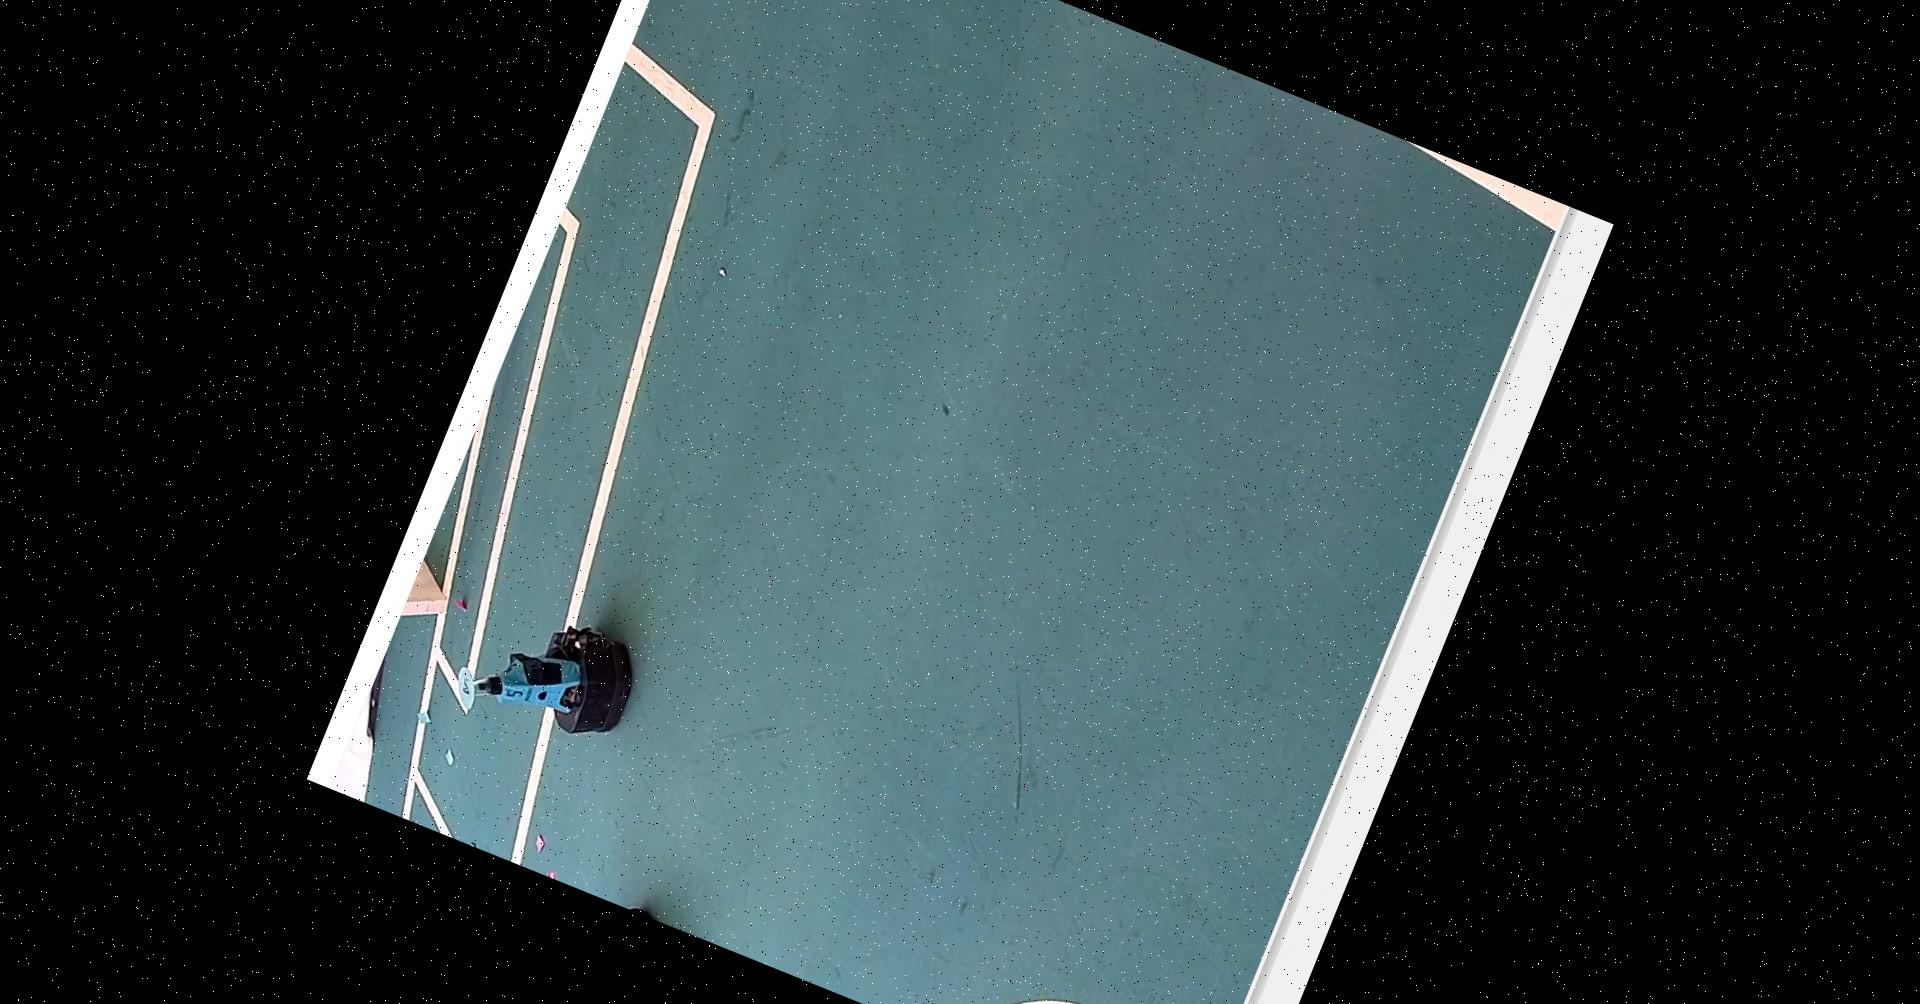Team_Blue: (436, 570, 656, 768)
